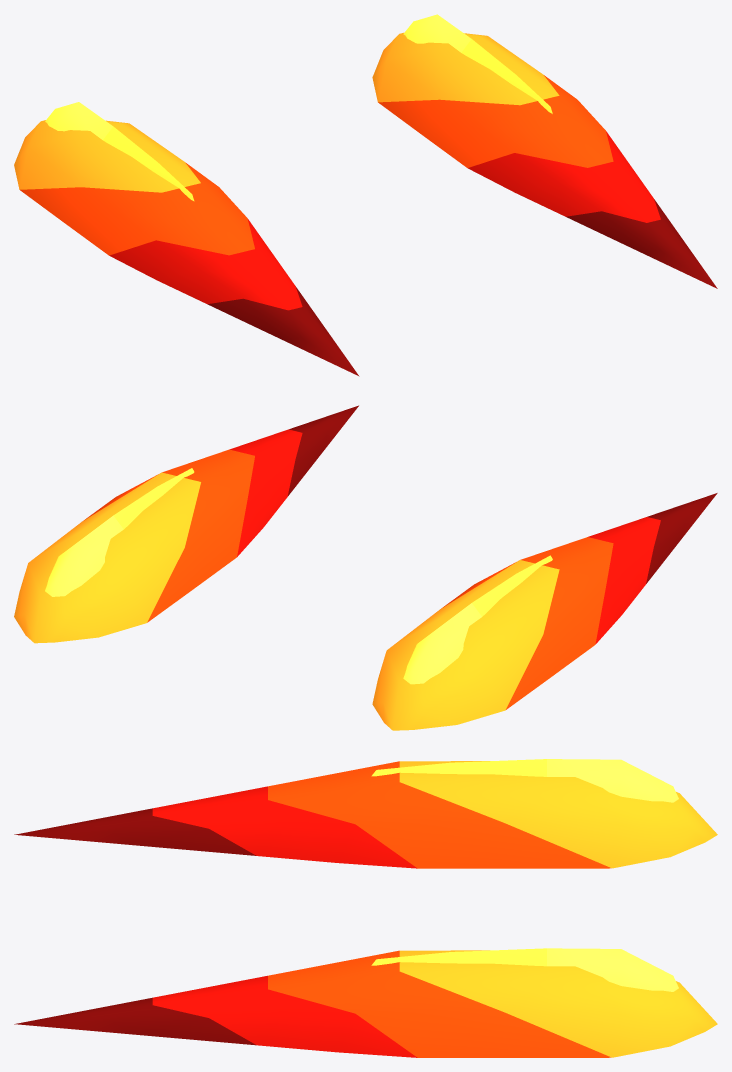
Rendered from shot_vulcan_2w.glb.
The picture shows the model from 3 angles, top to bottom: view 1: azimuth 30°, elevation 25°; view 2: azimuth 150°, elevation 25°; view 3: azimuth 270°, elevation 25°; orthographic projection. The views are drawn at different scales.
Visible parts, largest first — view 1: shot_vulcan_2w_needle1, shot_vulcan_2w_needle0, shot_vulcan_2w_core1, shot_vulcan_2w_core0; view 2: shot_vulcan_2w_needle0, shot_vulcan_2w_needle1, shot_vulcan_2w_core1, shot_vulcan_2w_core0; view 3: shot_vulcan_2w_needle0, shot_vulcan_2w_needle1, shot_vulcan_2w_core1, shot_vulcan_2w_core0.
Part boxes in pixels (x1=…): shot_vulcan_2w_needle1: x1=372, y1=32, x2=717, y2=288; shot_vulcan_2w_needle0: x1=14, y1=120, x2=359, y2=376; shot_vulcan_2w_core1: x1=403, y1=14, x2=552, y2=113; shot_vulcan_2w_core0: x1=45, y1=102, x2=194, y2=201; shot_vulcan_2w_needle0: x1=372, y1=493, x2=717, y2=730; shot_vulcan_2w_needle1: x1=14, y1=405, x2=358, y2=643; shot_vulcan_2w_core1: x1=45, y1=468, x2=194, y2=596; shot_vulcan_2w_core0: x1=403, y1=555, x2=552, y2=684; shot_vulcan_2w_needle0: x1=14, y1=761, x2=717, y2=868; shot_vulcan_2w_needle1: x1=14, y1=950, x2=717, y2=1057; shot_vulcan_2w_core1: x1=371, y1=948, x2=678, y2=991; shot_vulcan_2w_core0: x1=371, y1=759, x2=678, y2=802.
Bounding box in the file's own units: 9.5 × 1.31 × 11.
